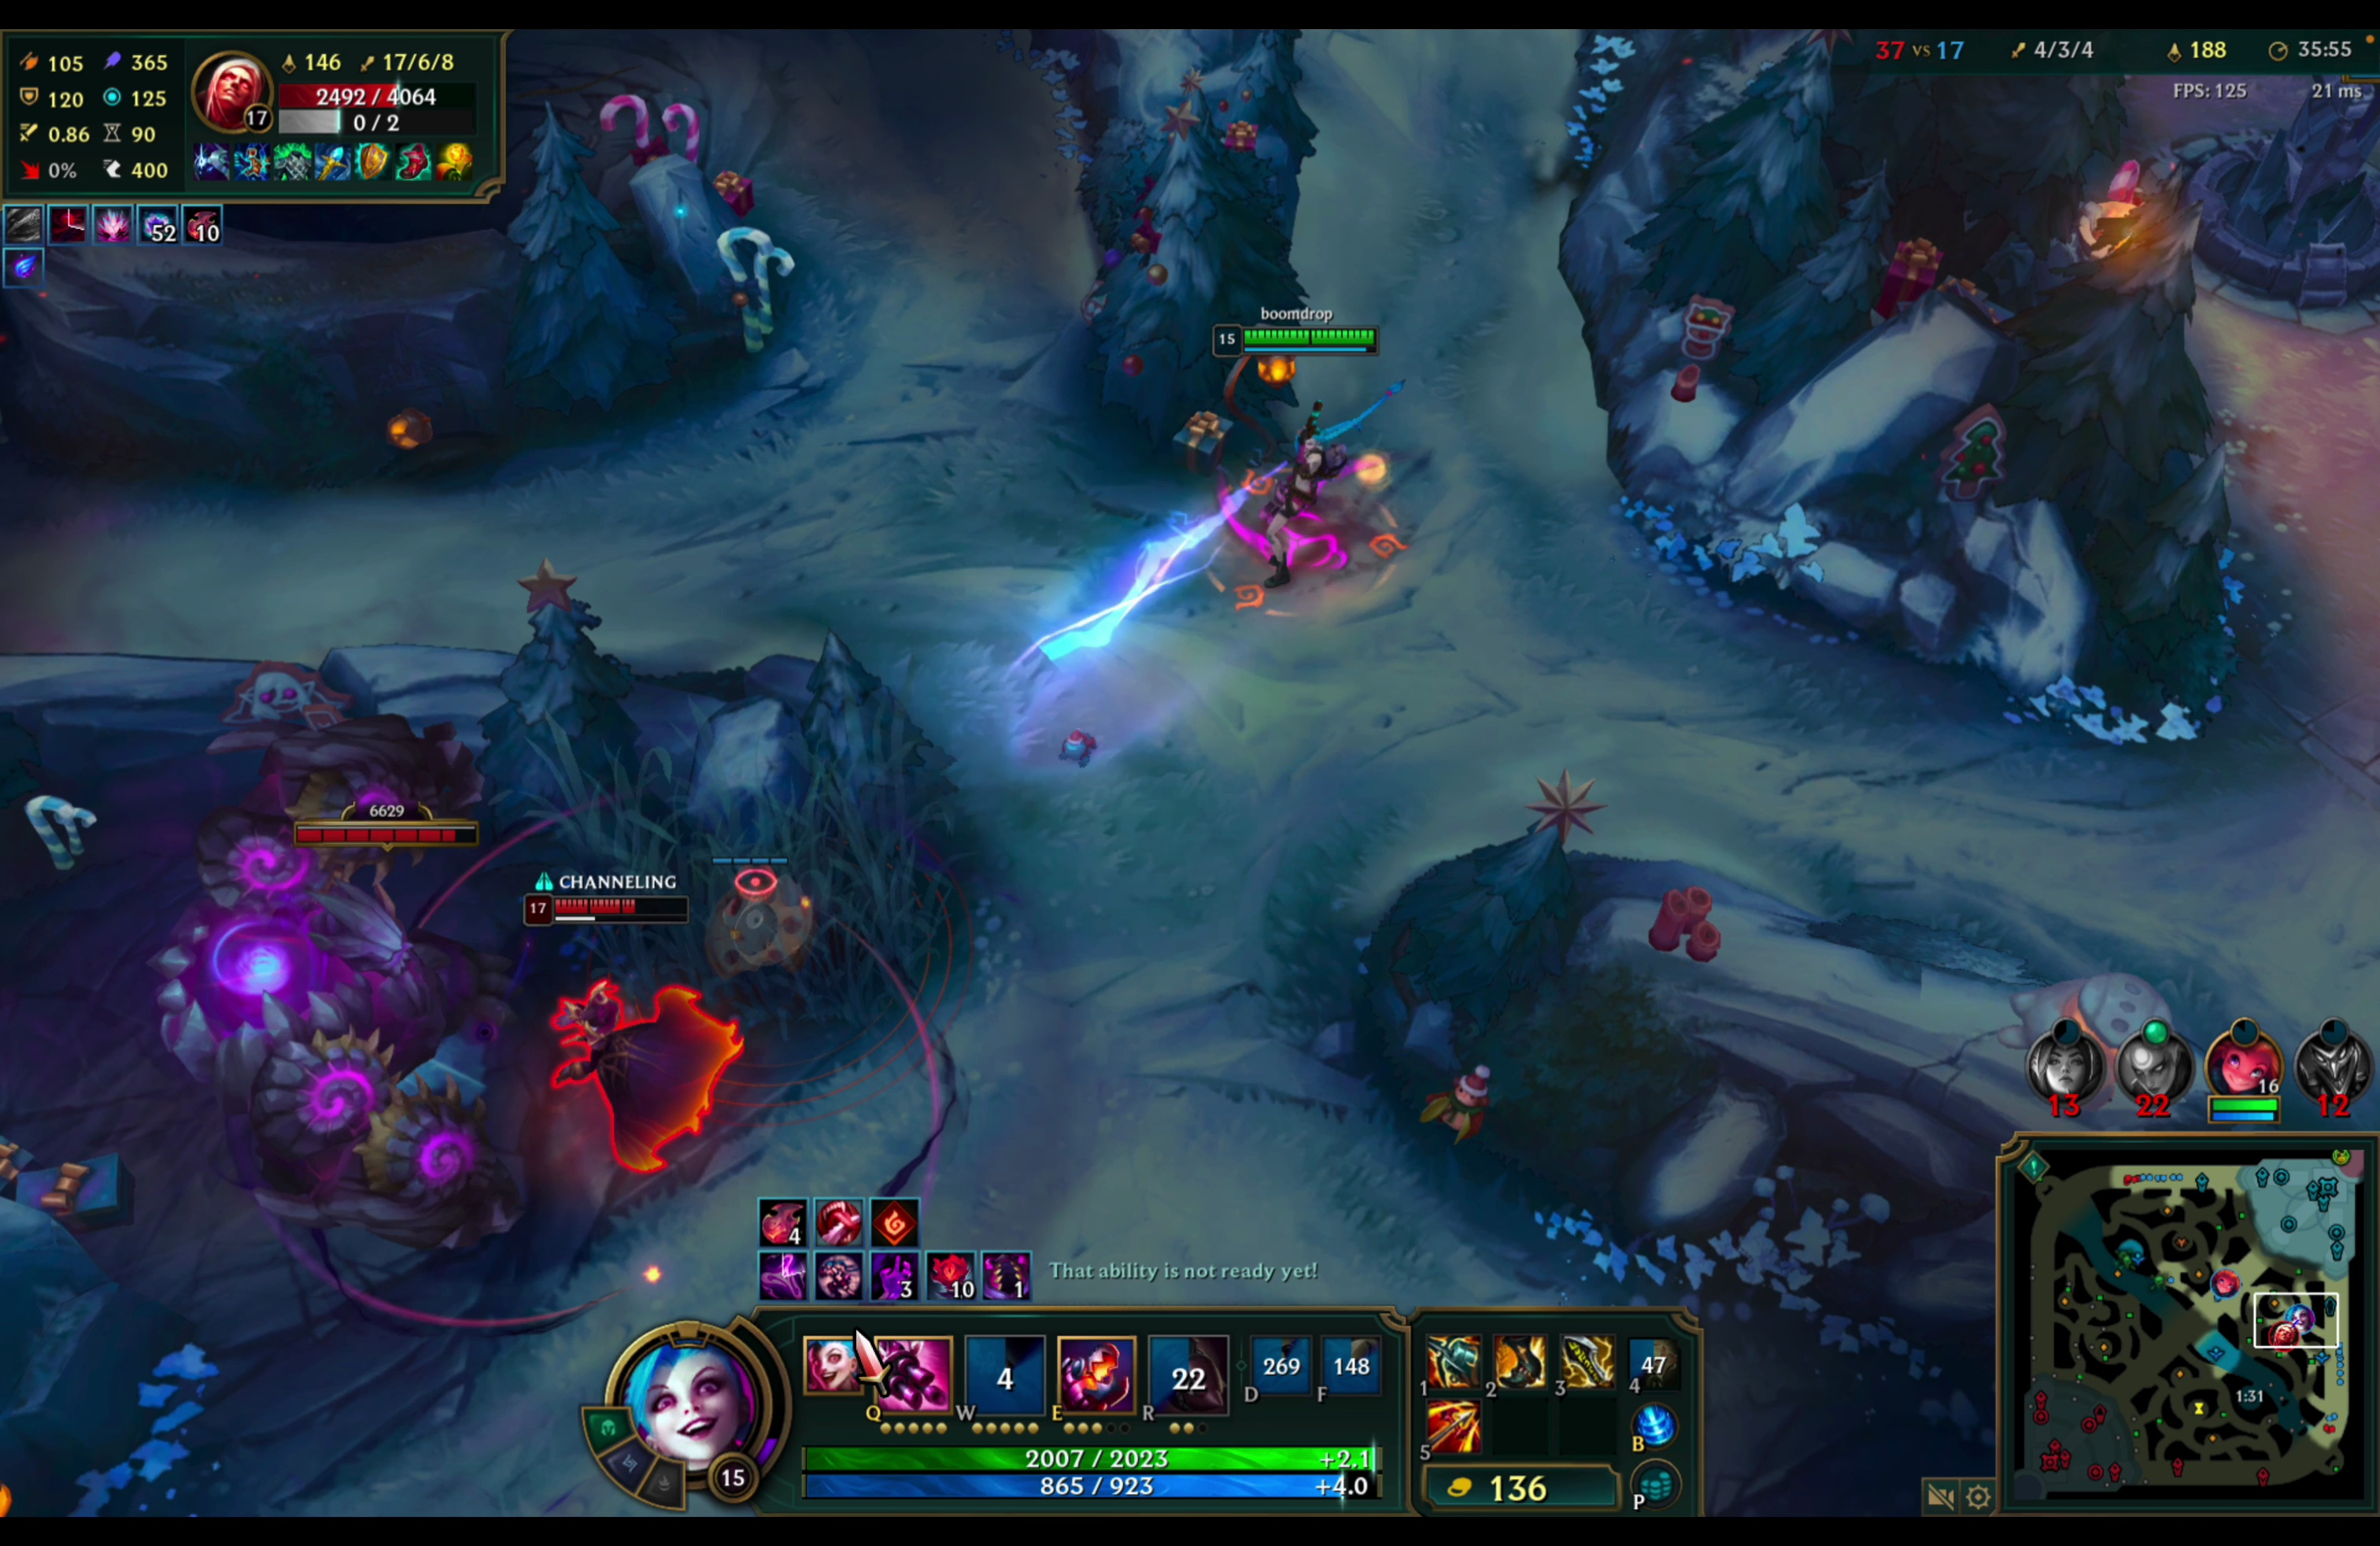JINX_W_PROJECTILE: (1006, 298, 1435, 711)
